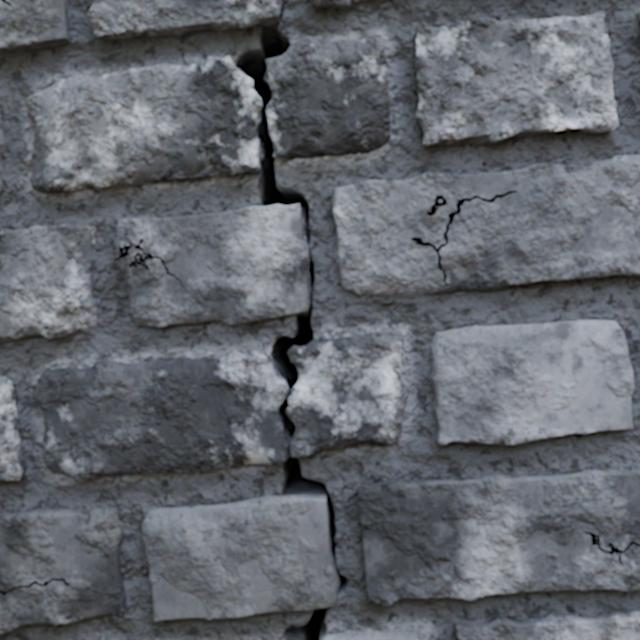broken_brick: (32, 351, 289, 482), (27, 56, 260, 193), (286, 332, 411, 458), (266, 36, 390, 159), (322, 627, 428, 639)
crack: (87, 0, 349, 639), (332, 155, 639, 298), (357, 469, 639, 605), (414, 11, 618, 147), (430, 320, 634, 444), (0, 507, 126, 634), (0, 221, 96, 341), (456, 611, 639, 639), (0, 0, 69, 51), (0, 376, 23, 480), (310, 0, 388, 10), (0, 111, 4, 193), (279, 436, 281, 444)
